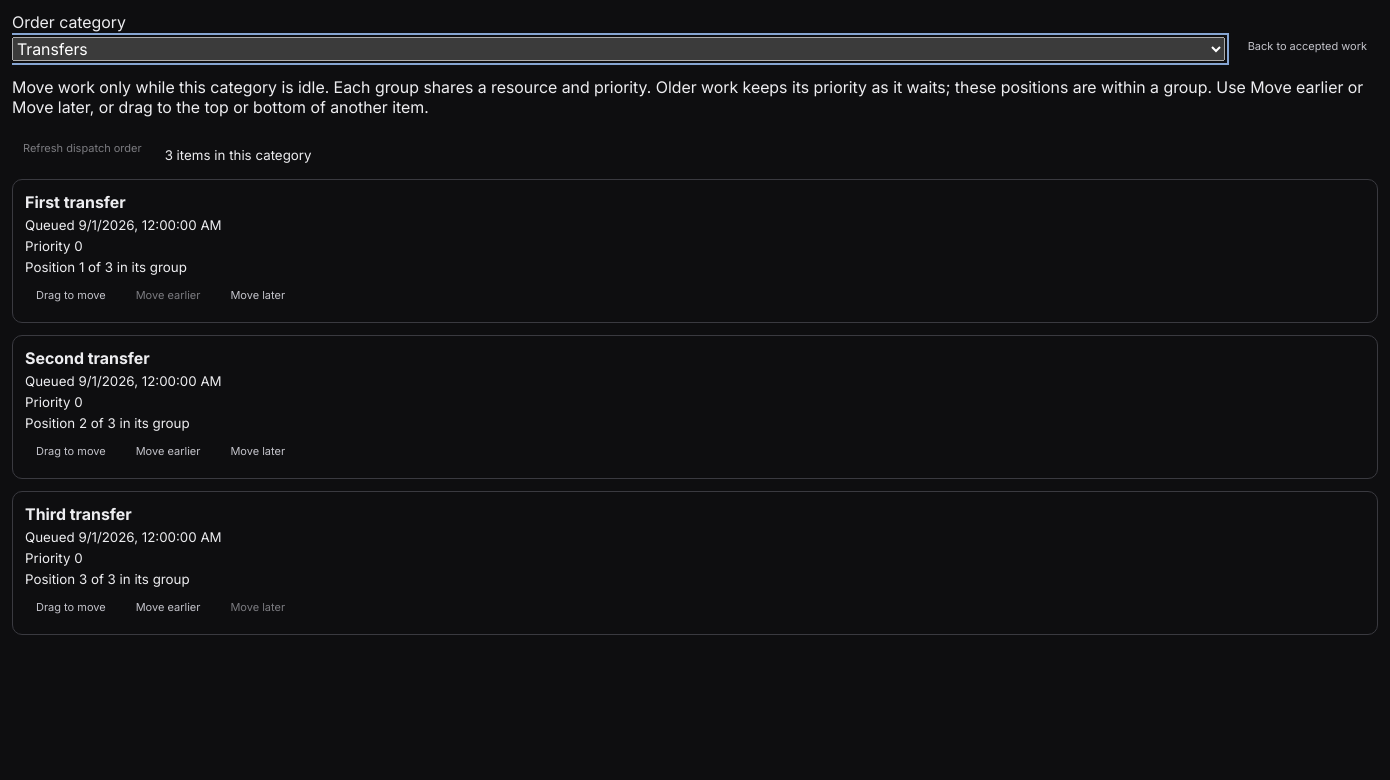
Scenario: submits a move during a background read and handles the accepted result
Click the button "Move earlier" below "Third transfer".
click(168, 607)  # box [125,592,211,622]
Wait 50 ms
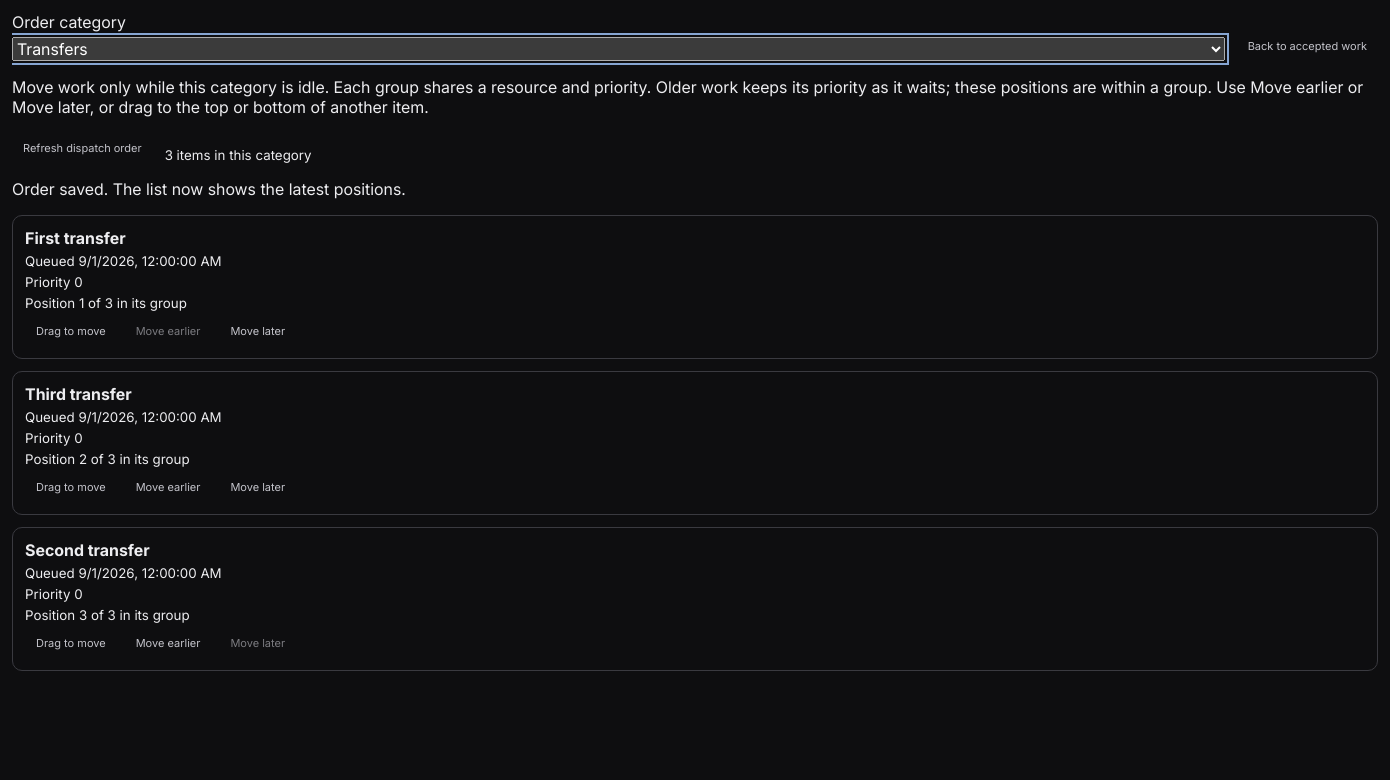
Now the text "Order saved. The list now shows the latest positions." is shown, box [12,179,406,199]
